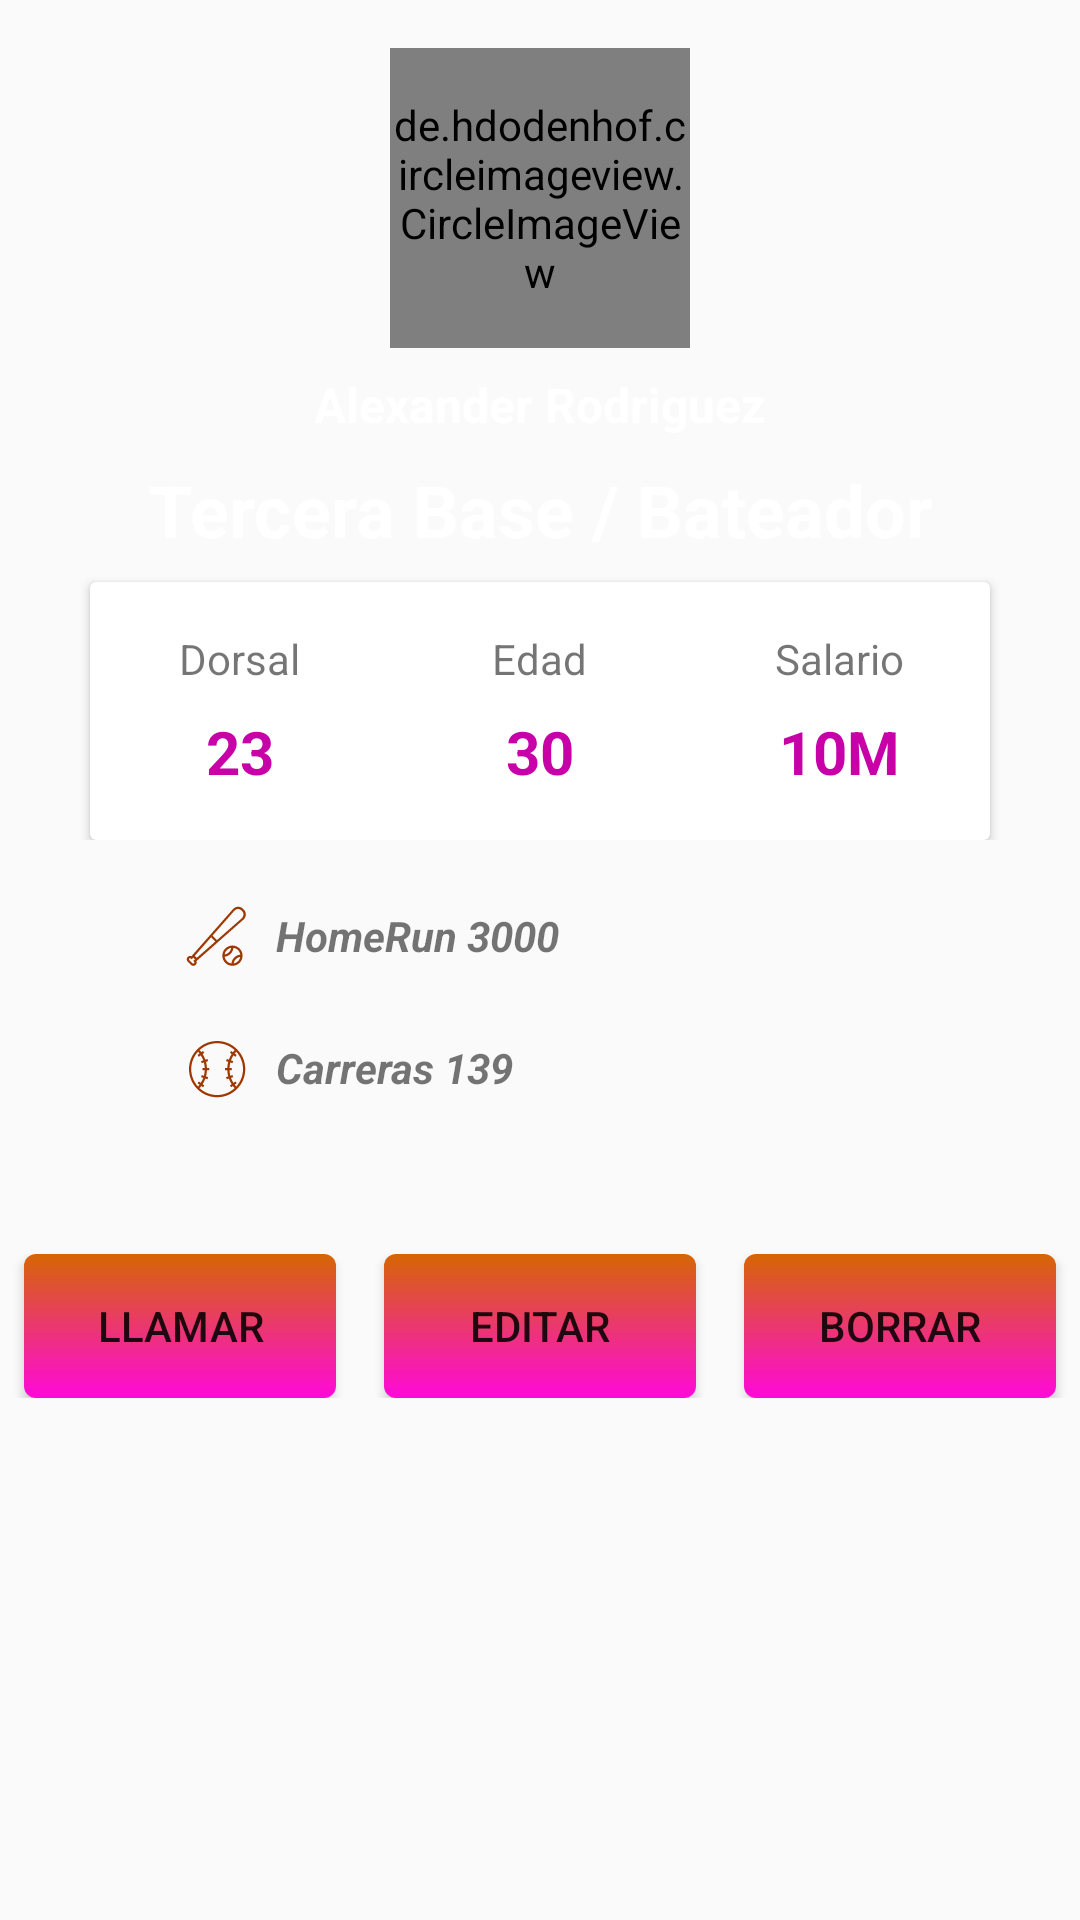

Screen size 1080px×1920px. Icon name, then its box in pixels as [x1=x1, y1=y1, x2=x2, y2=y2]:
baseball intro: [x1=186, y1=906, x2=246, y2=966], [x1=189, y1=1041, x2=246, y2=1098]
